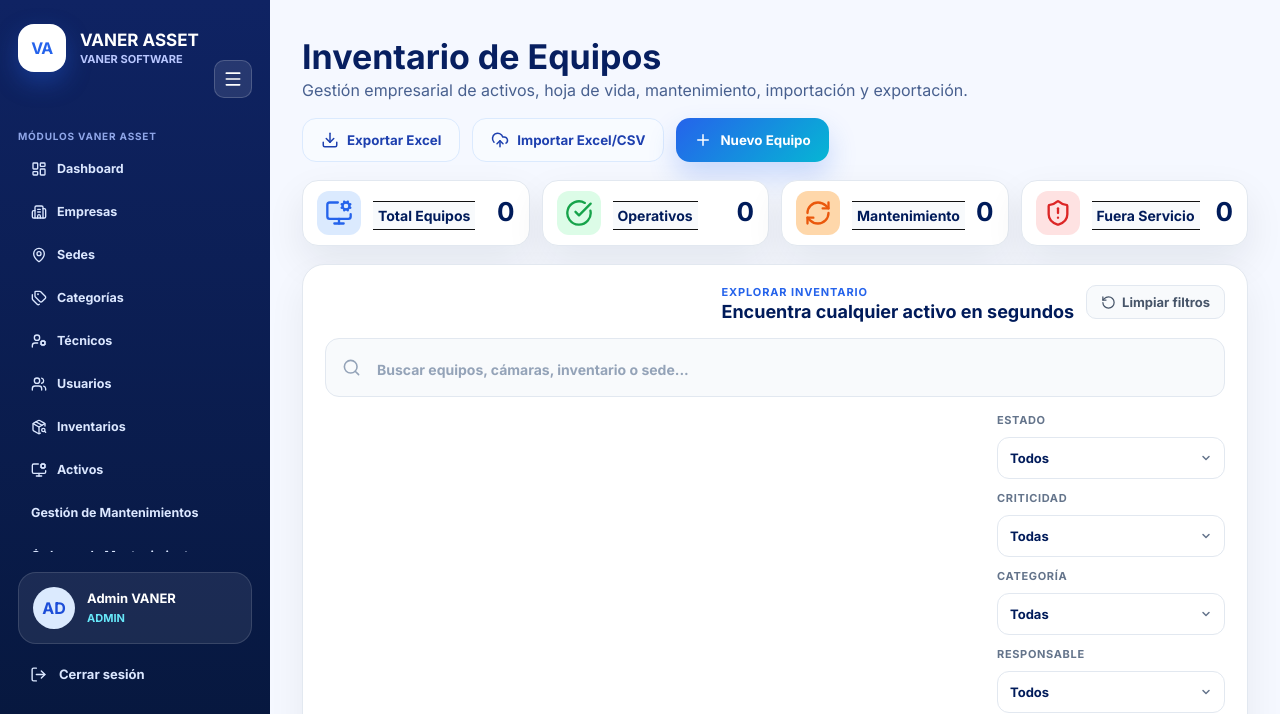
EquiposPage › exporta el inventario desde la cabecera
This screenshot has width=1280, height=714.
Click the button "Exportar Excel" at (381, 140), box [302,118,460,162]
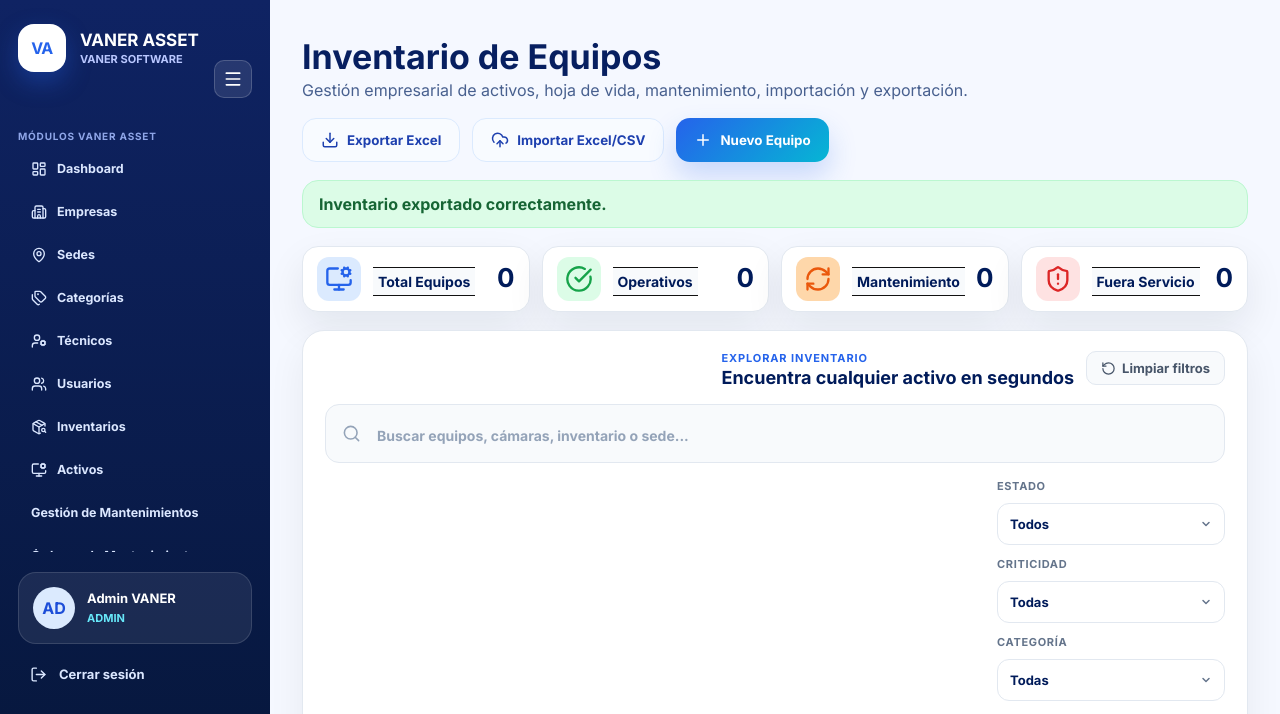
Now the text "Inventario exportado correctamente." is shown, box [302,180,1248,228]
